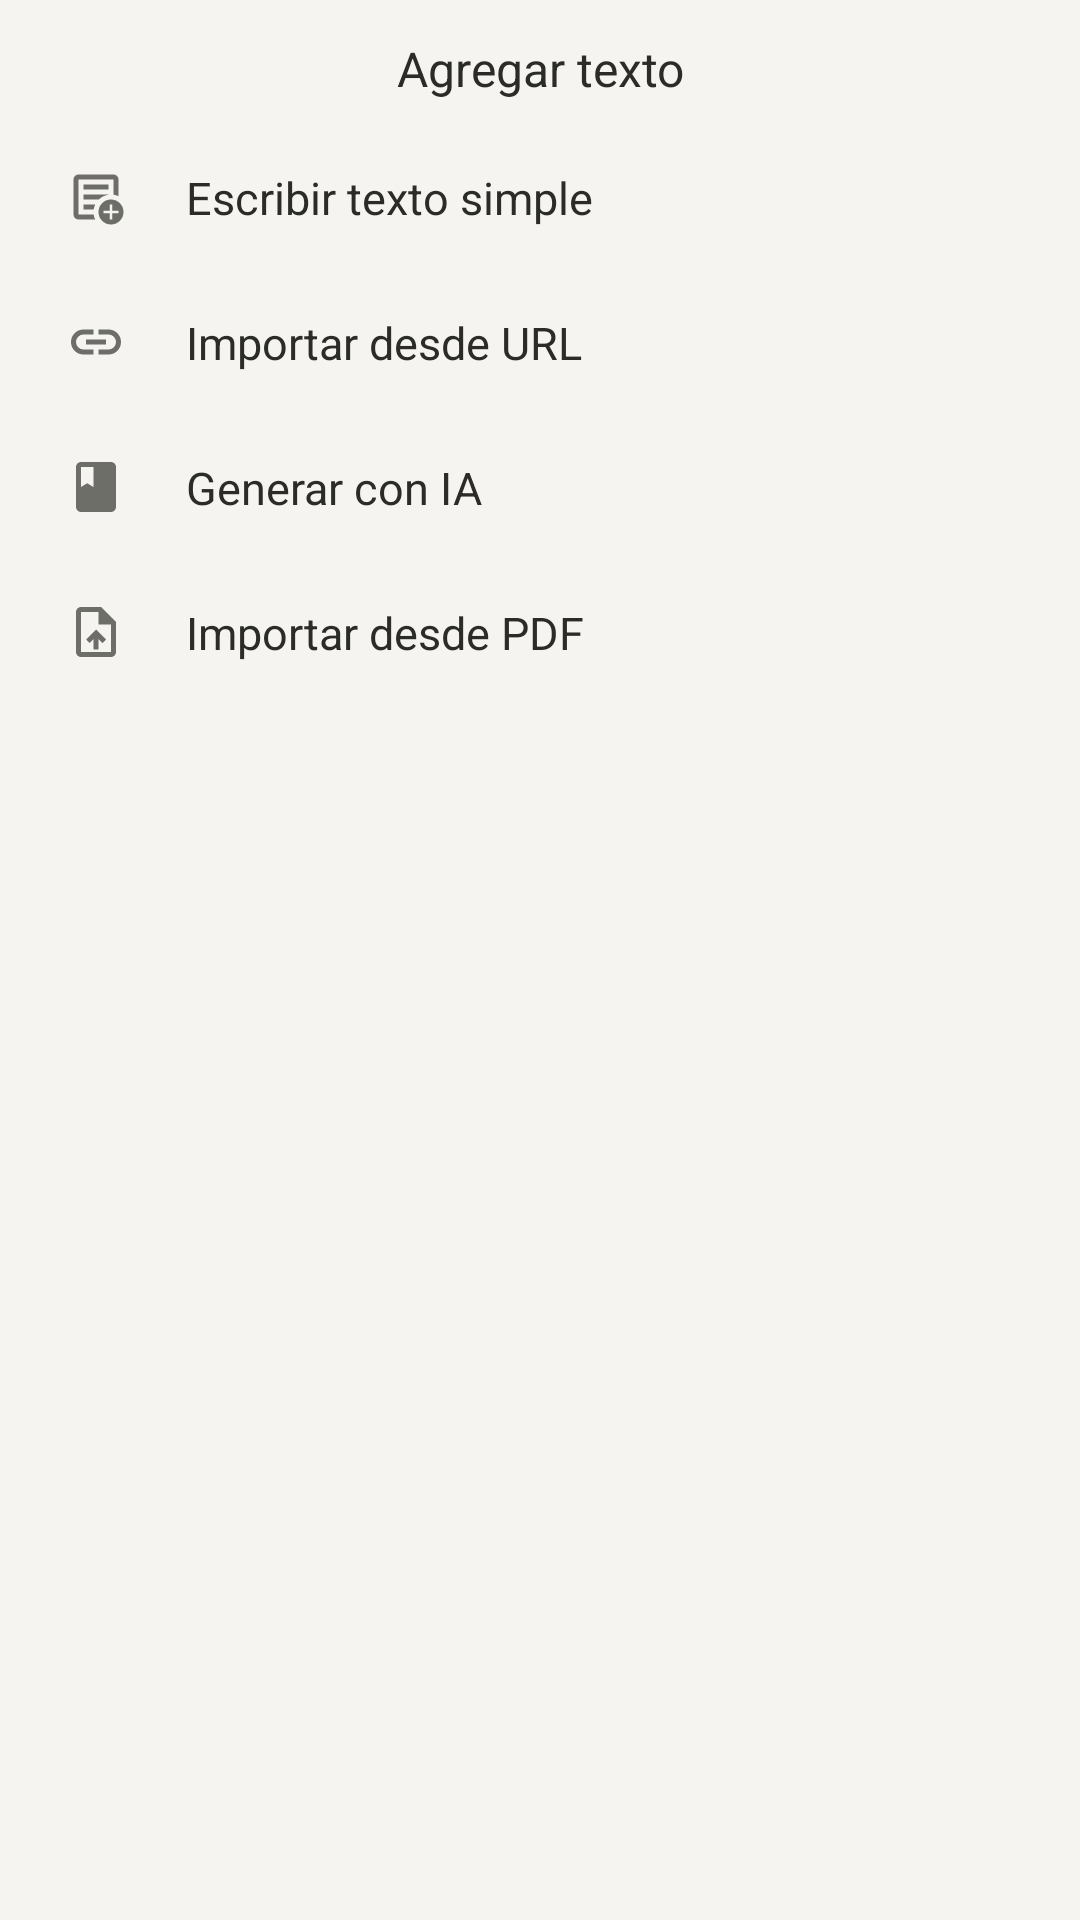

Named icons in this screenshot (1080*1920) and their centers, (x=x, y=y):
add notes: (x=98, y=199)
book: (x=96, y=487)
link: (x=96, y=342)
upload file: (x=96, y=632)
